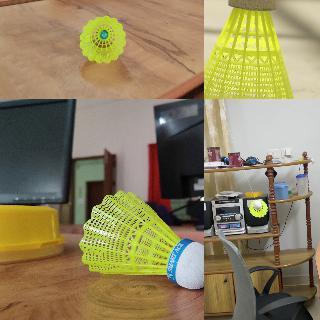shuttlecock: (80, 189, 203, 291), (204, 0, 299, 98), (78, 15, 125, 63), (248, 199, 268, 217)
